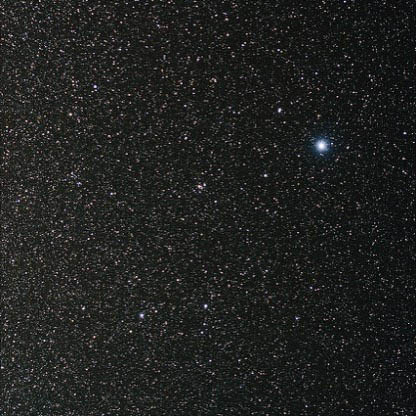Lyra: (307, 131, 340, 162), (131, 304, 154, 330), (252, 167, 278, 188), (194, 297, 216, 318), (269, 101, 290, 121), (190, 177, 207, 199)
